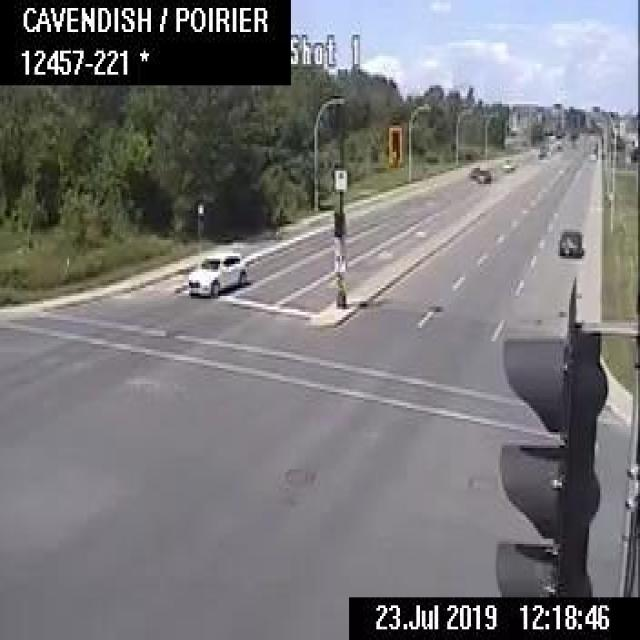vehicle: (186, 248, 246, 297), (558, 227, 582, 256), (499, 156, 514, 170), (475, 168, 489, 181), (467, 164, 478, 178)
